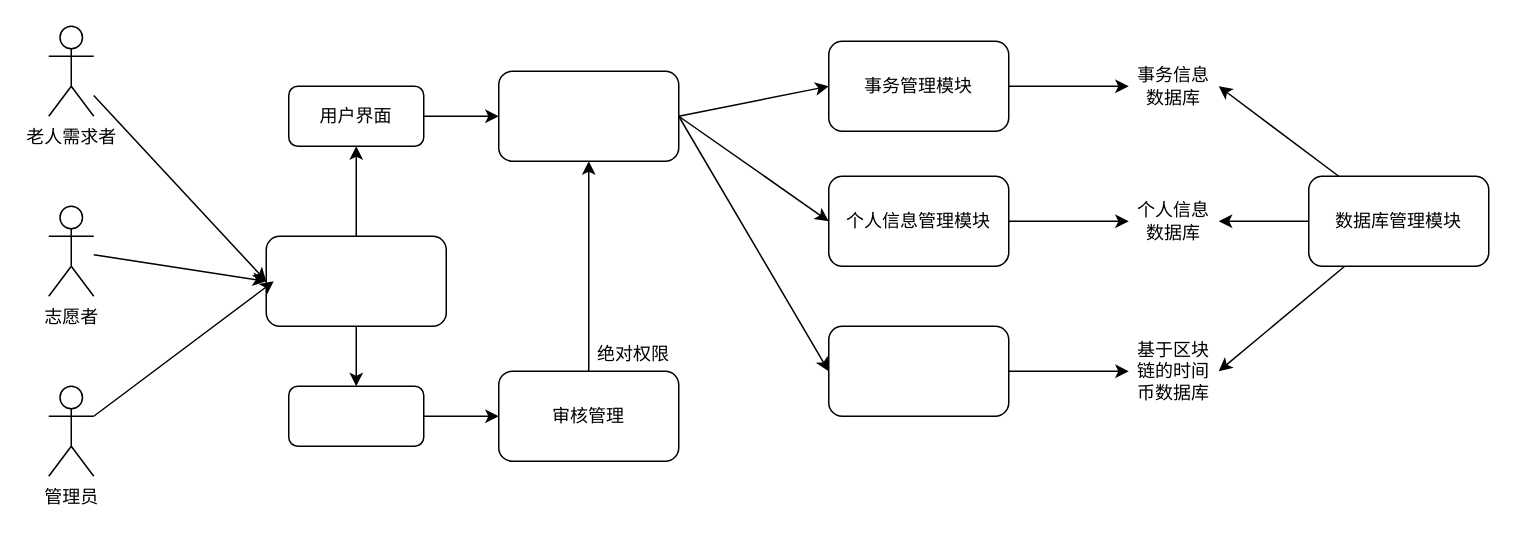
The diagram is 1515 pixels wide and 534 high, and some of its shapes have lost their labels. The shapes that lost their labels are listed below. From the top down, each one's box as (x1, y1, x2, y2) in pixels, then its label:
(497, 70, 679, 161): 管理操作模块
(265, 235, 446, 326): 注册登录
(827, 325, 1009, 416): 时间币管理模块
(287, 385, 424, 446): 后台界面
